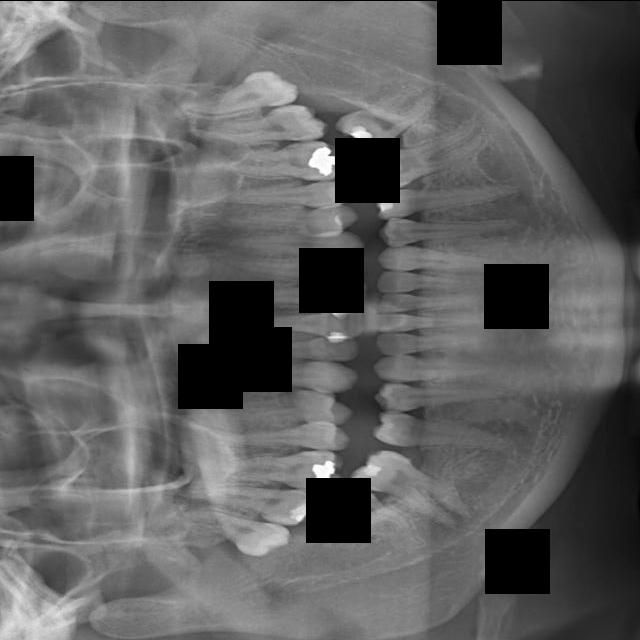3M ESPE Implant: (168, 498, 295, 566)
AGS Medikal Implant: (329, 72, 453, 165)
AMerOss Implant: (442, 152, 443, 152)
Amalgam filling: (168, 477, 327, 530)
Anthogyr Implant: (373, 175, 521, 221)
Bicon Implant: (374, 204, 527, 248)
BioHorizons Implant: (376, 242, 525, 270)
BioLife Implant: (375, 270, 502, 295)
Biomet 3i Implant: (377, 292, 487, 312)
Blue Sky Bio Implant: (374, 312, 490, 333)
Camlog Implant: (373, 332, 492, 355)
Caries: (205, 257, 366, 283)
Composite filling: (371, 353, 512, 382)
Cowellmedi Implant: (371, 381, 522, 417)
Crown: (368, 410, 517, 456)
DENTSPLY Implant: (215, 441, 346, 492)
Dentis Implant: (430, 493, 431, 494)
Dentium Implant: (314, 476, 438, 561)
Euroteknika Implant: (193, 419, 353, 451)
Filling: (190, 386, 358, 424)
Frontier Implant: (189, 357, 363, 396)
Hiossen Implant: (207, 229, 367, 263)
Implant: (229, 309, 364, 339)
Implant Direct: (205, 334, 361, 362)
Keystone Dental Implant: (223, 282, 370, 314)
MIS Implant: (210, 205, 361, 234)
Mandible: (194, 177, 357, 211)
Maxilla: (208, 137, 347, 190)
Megagen Implant: (189, 100, 332, 151)
Neodent Implant: (171, 62, 304, 122)
